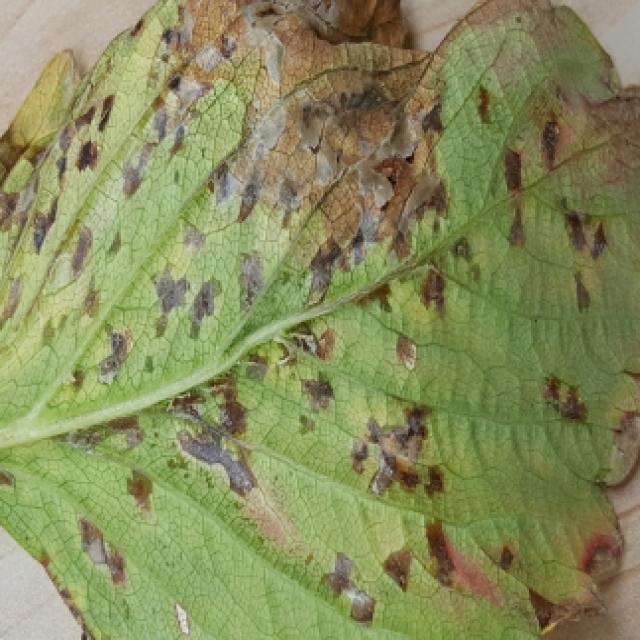Angular Leafspot: (0, 0, 640, 640)
